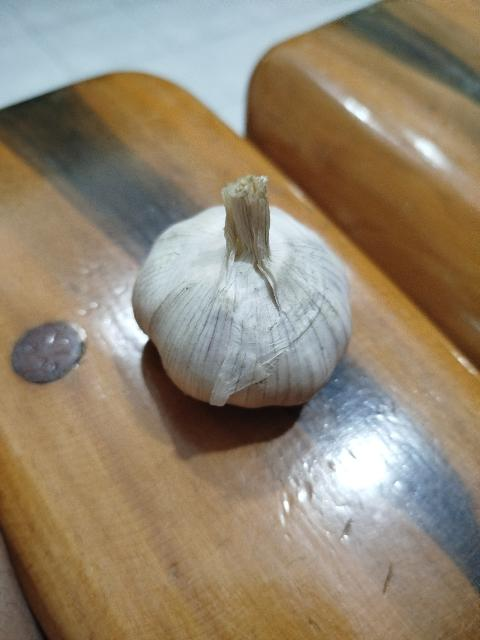garlic: (132, 174, 352, 408)
